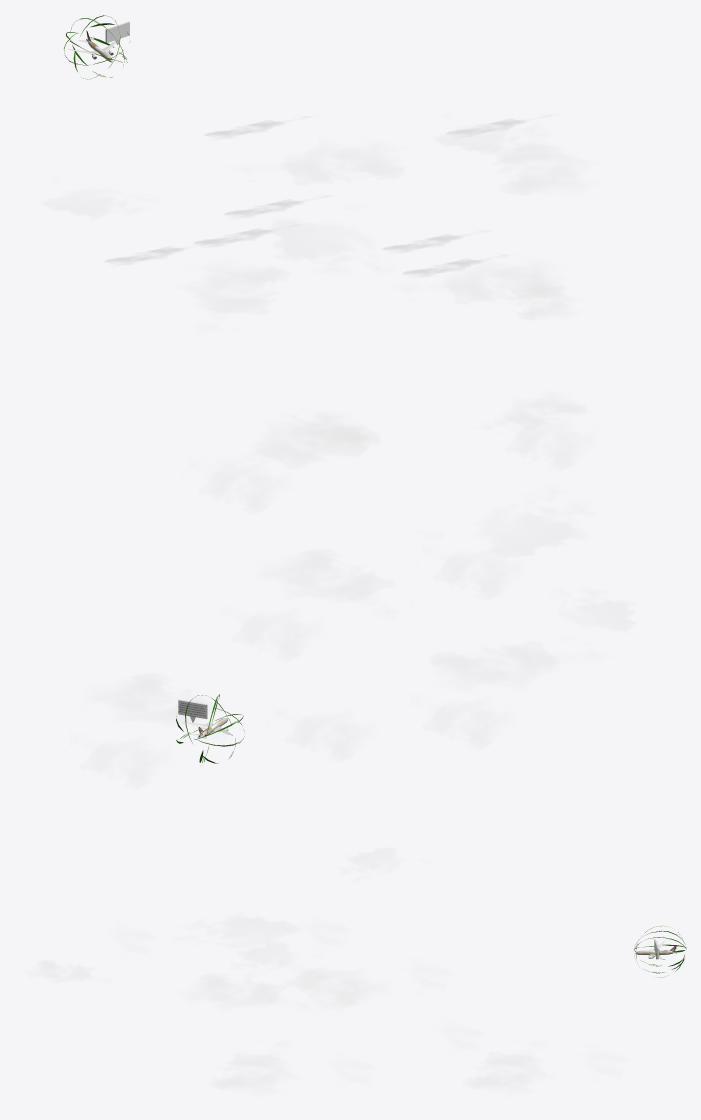
The picture shows the model from 3 angles, top to bottom: view 1: azimuth 30°, elevation 25°; view 2: azimuth 150°, elevation 25°; view 3: azimuth 270°, elevation 25°; orthographic projection. The views are drawn at different scales.
Visible parts, largest first — view 1: cloud_09, cloud_07, cloud_03, cloud_04, cloud_06, cloud_010, cloud_05, cloud_01, cloud_013, cloud_02, cloud_012, cloud_011 (+3 smaller); view 2: cloud_04, cloud_07, cloud_03, cloud_06, cloud_09, cloud_02, cloud_013, cloud_08, cloud_011, cloud_012, cloud_014, cloud_015 (+3 smaller); view 3: cloud_04, cloud_03, cloud_09, cloud_07, cloud_06, cloud_010, cloud_05, cloud_01, cloud_08, cloud_02, cloud_015, cloud_013 (+3 smaller).
Boxes of the visible parts, x1,y1,x2,y2 form: cloud_09: [233, 142, 404, 185]; cloud_07: [183, 263, 289, 332]; cloud_03: [492, 123, 593, 194]; cloud_04: [395, 261, 565, 304]; cloud_06: [267, 208, 385, 272]; cloud_010: [43, 181, 155, 219]; cloud_05: [434, 117, 546, 154]; cloud_01: [511, 275, 576, 319]; cloud_013: [205, 117, 308, 138]; cloud_02: [403, 255, 507, 276]; cloud_012: [383, 231, 486, 252]; cloud_011: [224, 196, 328, 217]; cloud_04: [260, 549, 396, 617]; cloud_07: [430, 641, 608, 689]; cloud_03: [216, 413, 380, 468]; cloud_06: [439, 489, 595, 557]; cloud_09: [90, 673, 225, 741]; cloud_02: [495, 417, 594, 471]; cloud_013: [70, 735, 169, 789]; cloud_08: [274, 709, 373, 762]; cloud_011: [423, 546, 522, 599]; cloud_012: [222, 608, 320, 661]; cloud_014: [412, 696, 511, 749]; cloud_015: [189, 461, 287, 514]; cloud_04: [209, 1042, 295, 1094]; cloud_03: [186, 973, 311, 1009]; cloud_09: [463, 1040, 548, 1093]; cloud_07: [282, 962, 386, 1006]; cloud_06: [176, 913, 300, 947]; cloud_010: [340, 847, 422, 881]; cloud_05: [231, 943, 313, 976]; cloud_01: [29, 959, 110, 983]; cloud_08: [436, 1020, 486, 1055]; cloud_02: [107, 923, 157, 958]; cloud_015: [301, 980, 351, 1015]; cloud_013: [580, 1046, 629, 1081].
Size of the model in its own units: 5.18 by 1.65 by 7.08.
Materials: 8 (5 with a texture image).
